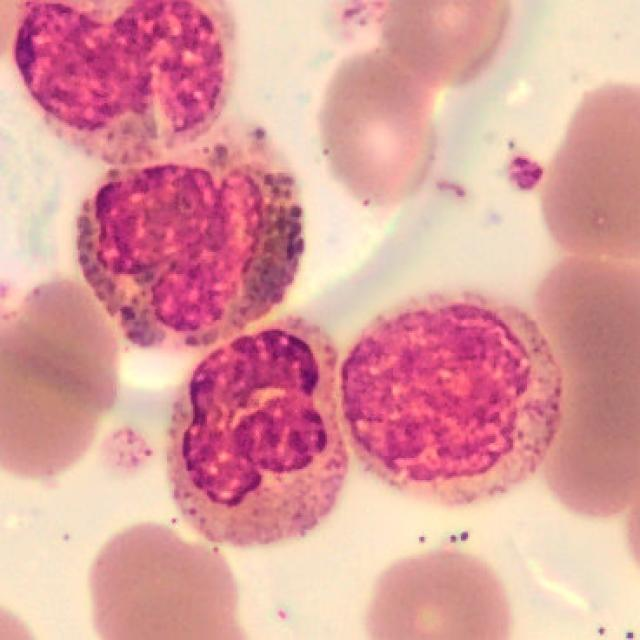Eosinofilo: (78, 118, 304, 351)
Metamielocito: (14, 0, 226, 171)
Mielocito: (341, 292, 563, 508)
Neutrofilo segmentado: (169, 318, 350, 550)
